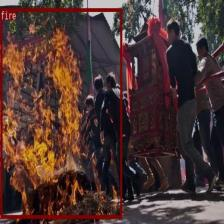fire: (0, 7, 122, 218)
